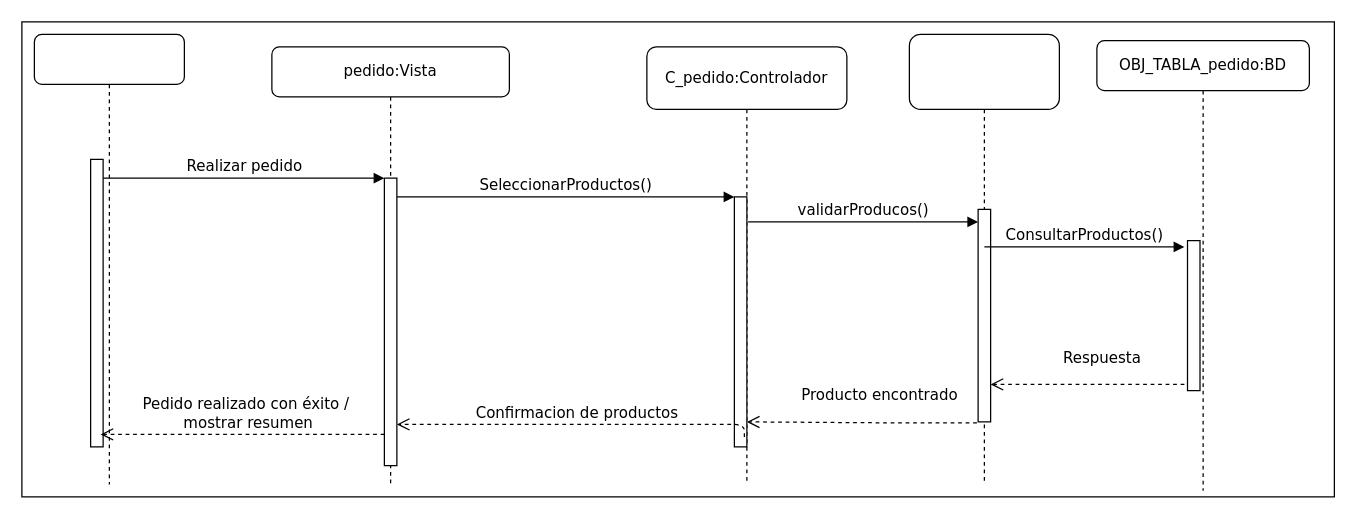
Some shapes in this 1356 by 519 pixel diagram are drawn without their labels. The box of each missing label's shape, as (x1, y1, x2, y2) in pixels:
Objeto_pedido: Clases: (908, 33, 1059, 484)
usuario : Usuario: (33, 33, 184, 484)
